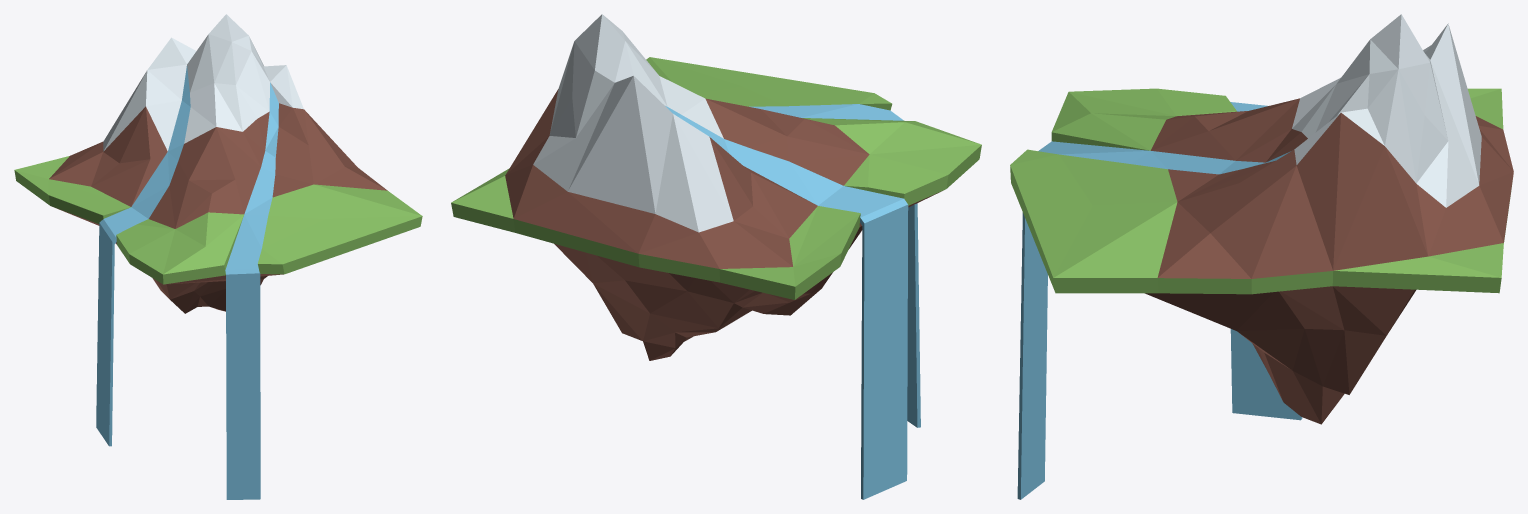
File: Island14.fbx
3 renders of one model, left to right at view 1: azimuth 30°, elevation 25°; view 2: azimuth 150°, elevation 25°; view 3: azimuth 270°, elevation 25°, orthographic. The views are drawn at different scales.
Parts seen in each view (by area): view 1: Island14; view 2: Island14; view 3: Island14.
Part boxes in pixels (x1=…): Island14: x1=14, y1=14, x2=422, y2=499; Island14: x1=451, y1=14, x2=981, y2=499; Island14: x1=1010, y1=14, x2=1513, y2=499.
Size of the model in its own units: 4.74 by 6.43 by 5.3.
